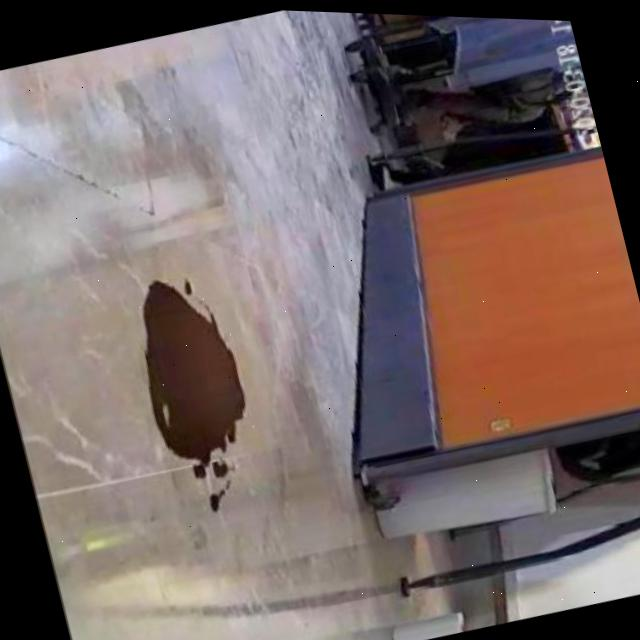spillage: (143, 279, 248, 523)
